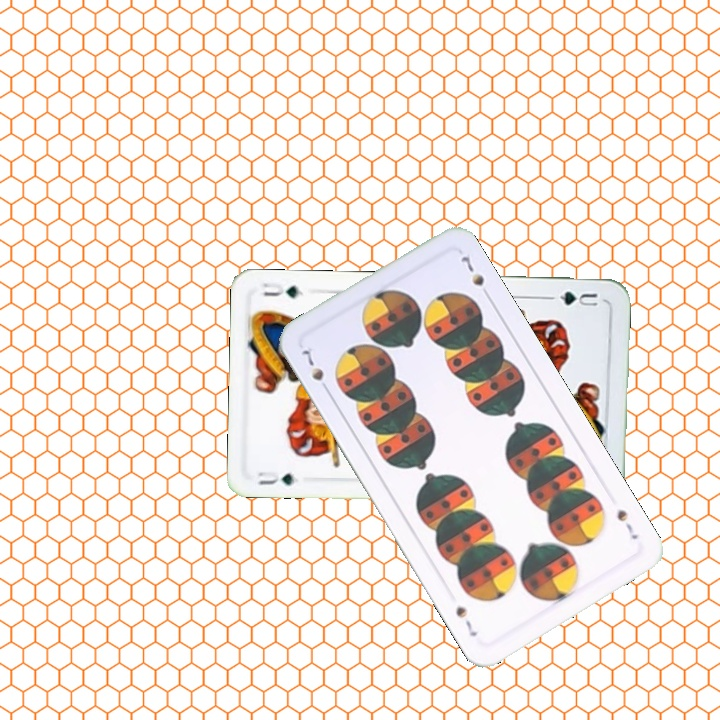GU: (545, 287, 600, 309), (253, 467, 302, 488)
S7: (296, 342, 333, 396), (612, 505, 641, 543)
